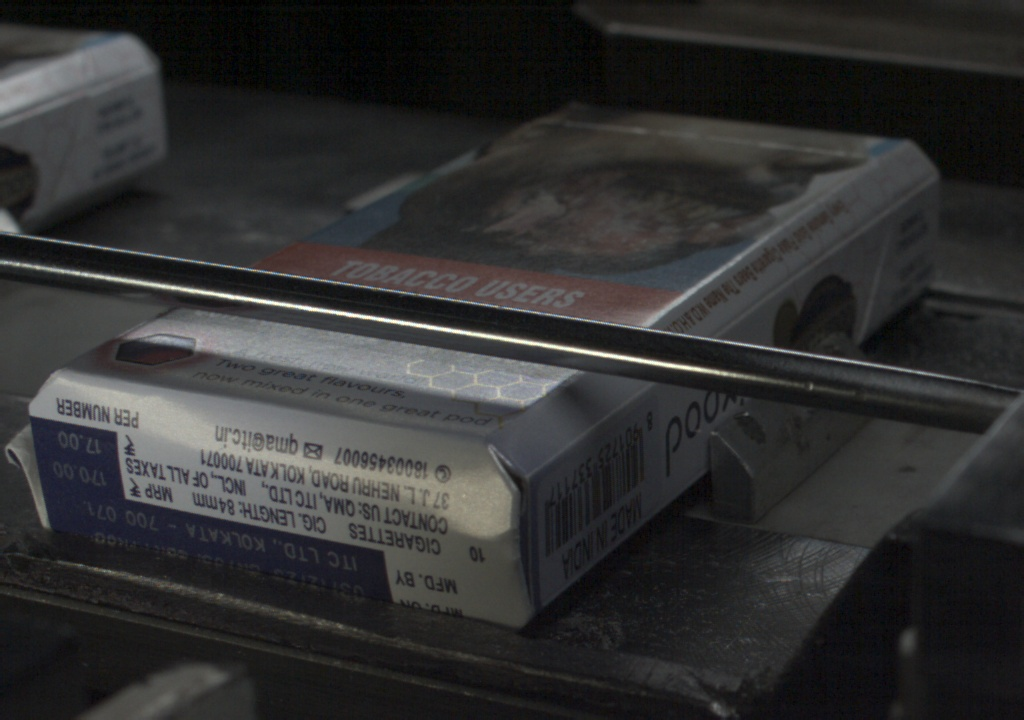g_label: (46, 489, 408, 603)
g_lmiter: (714, 269, 806, 336), (806, 205, 890, 269), (589, 384, 650, 428), (531, 430, 588, 472)
g_miter: (888, 170, 939, 205)
ng_lmiter: (4, 373, 48, 530)
price: (34, 419, 134, 492)
